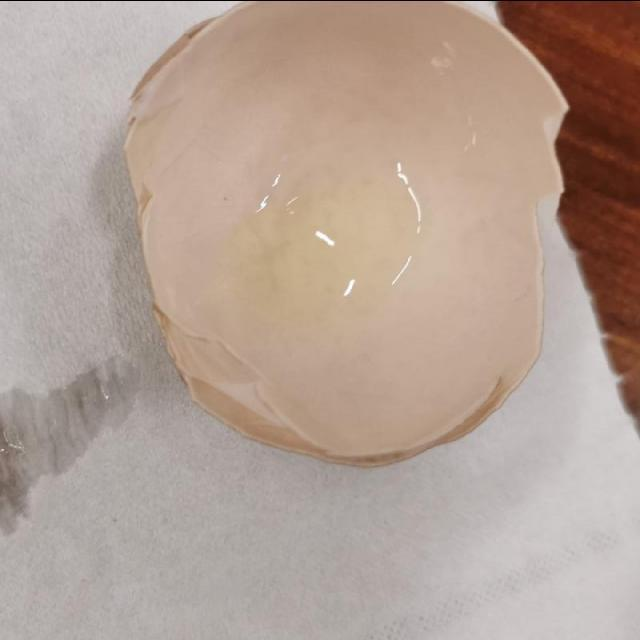egg shell: (123, 2, 564, 466)
